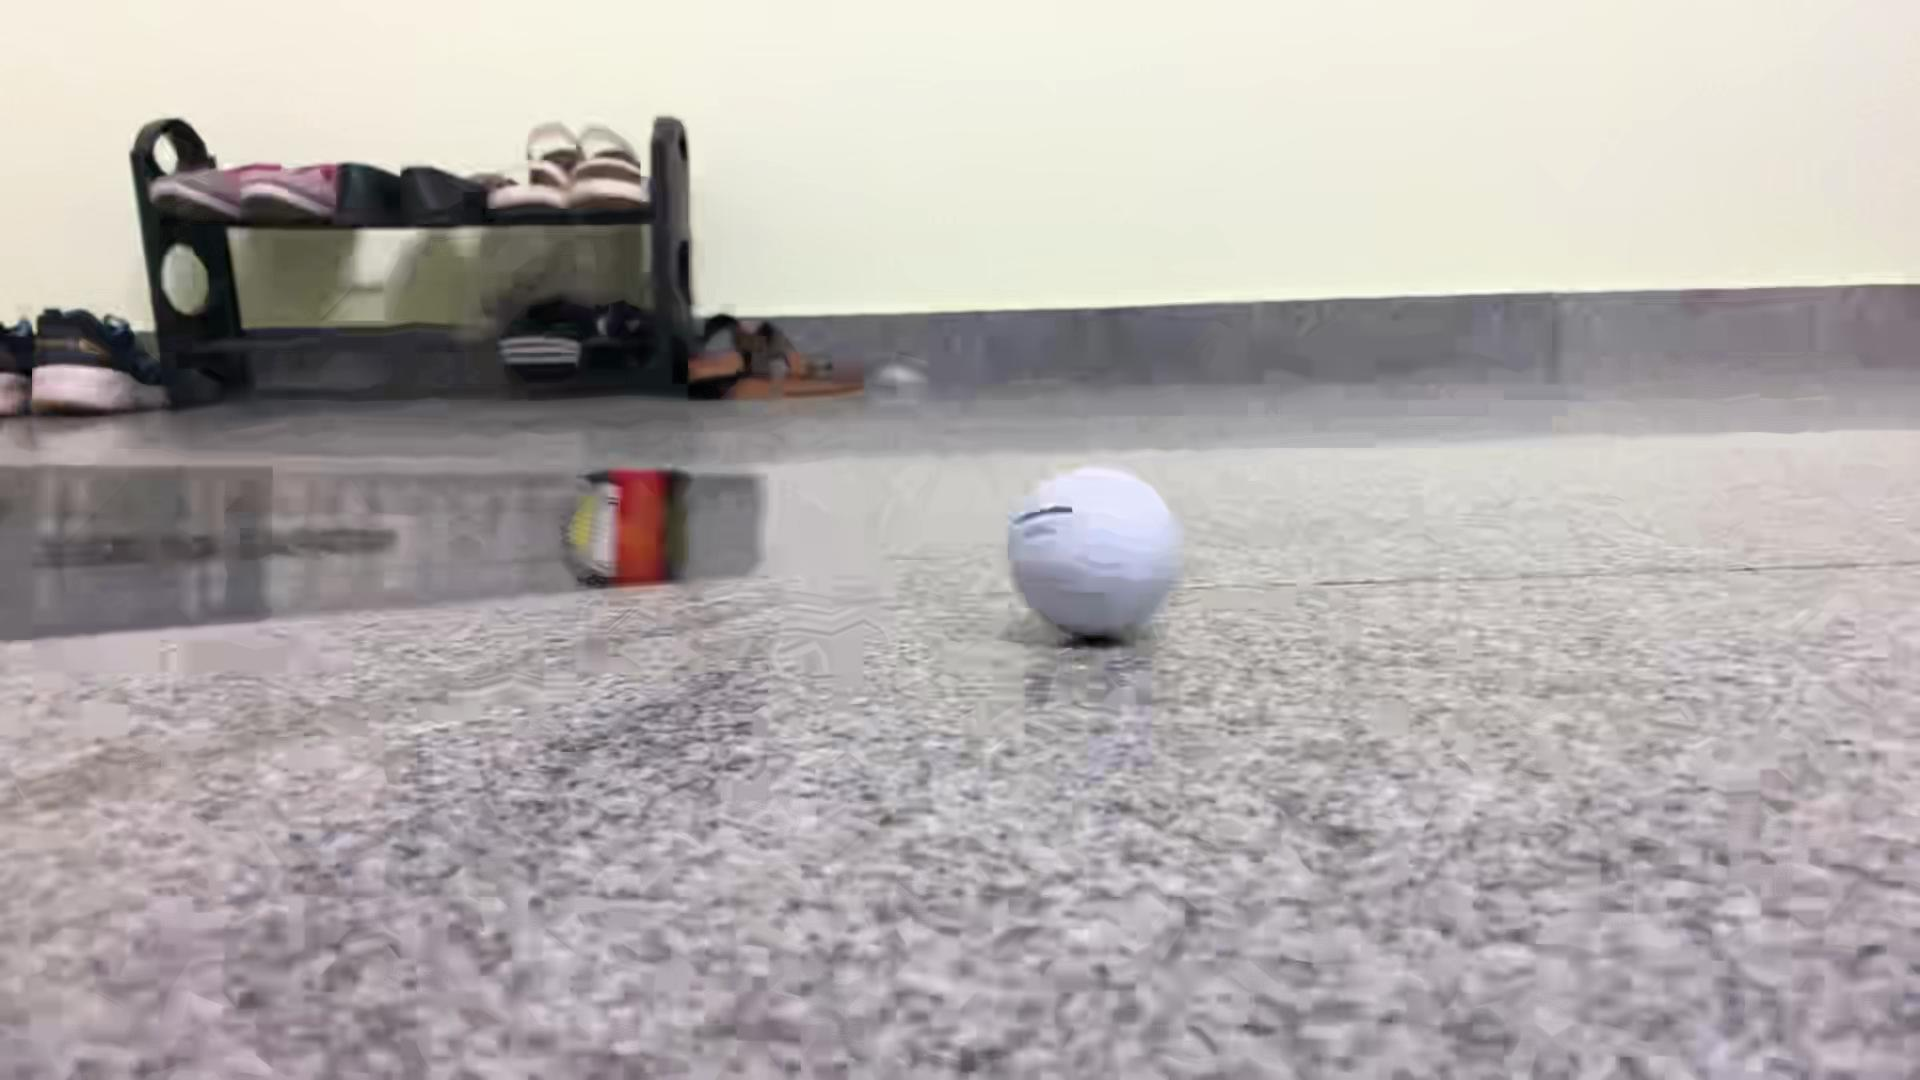golfball: (1006, 466, 1184, 640)
